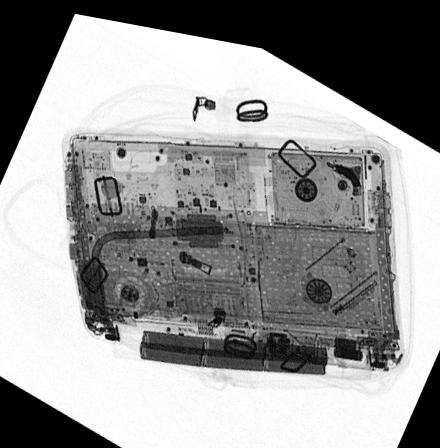Baton: (223, 312, 379, 357)
